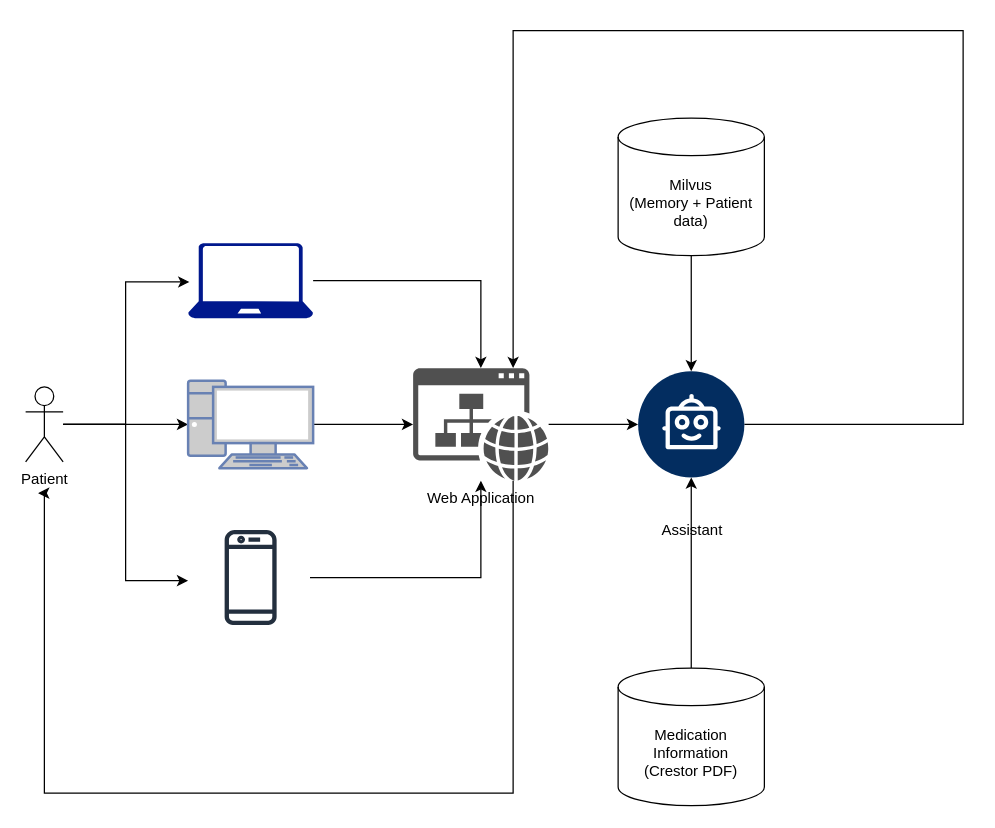
The diagram is 995 pixels wide and 828 high, and some of its shapes have lost their labels. Here are the shapes that lost their labels. From the top down, the centre of each, then its label:
At (250,280): "Laptop".
At (250,424): "PC".
At (250,577): "Mobile client".
